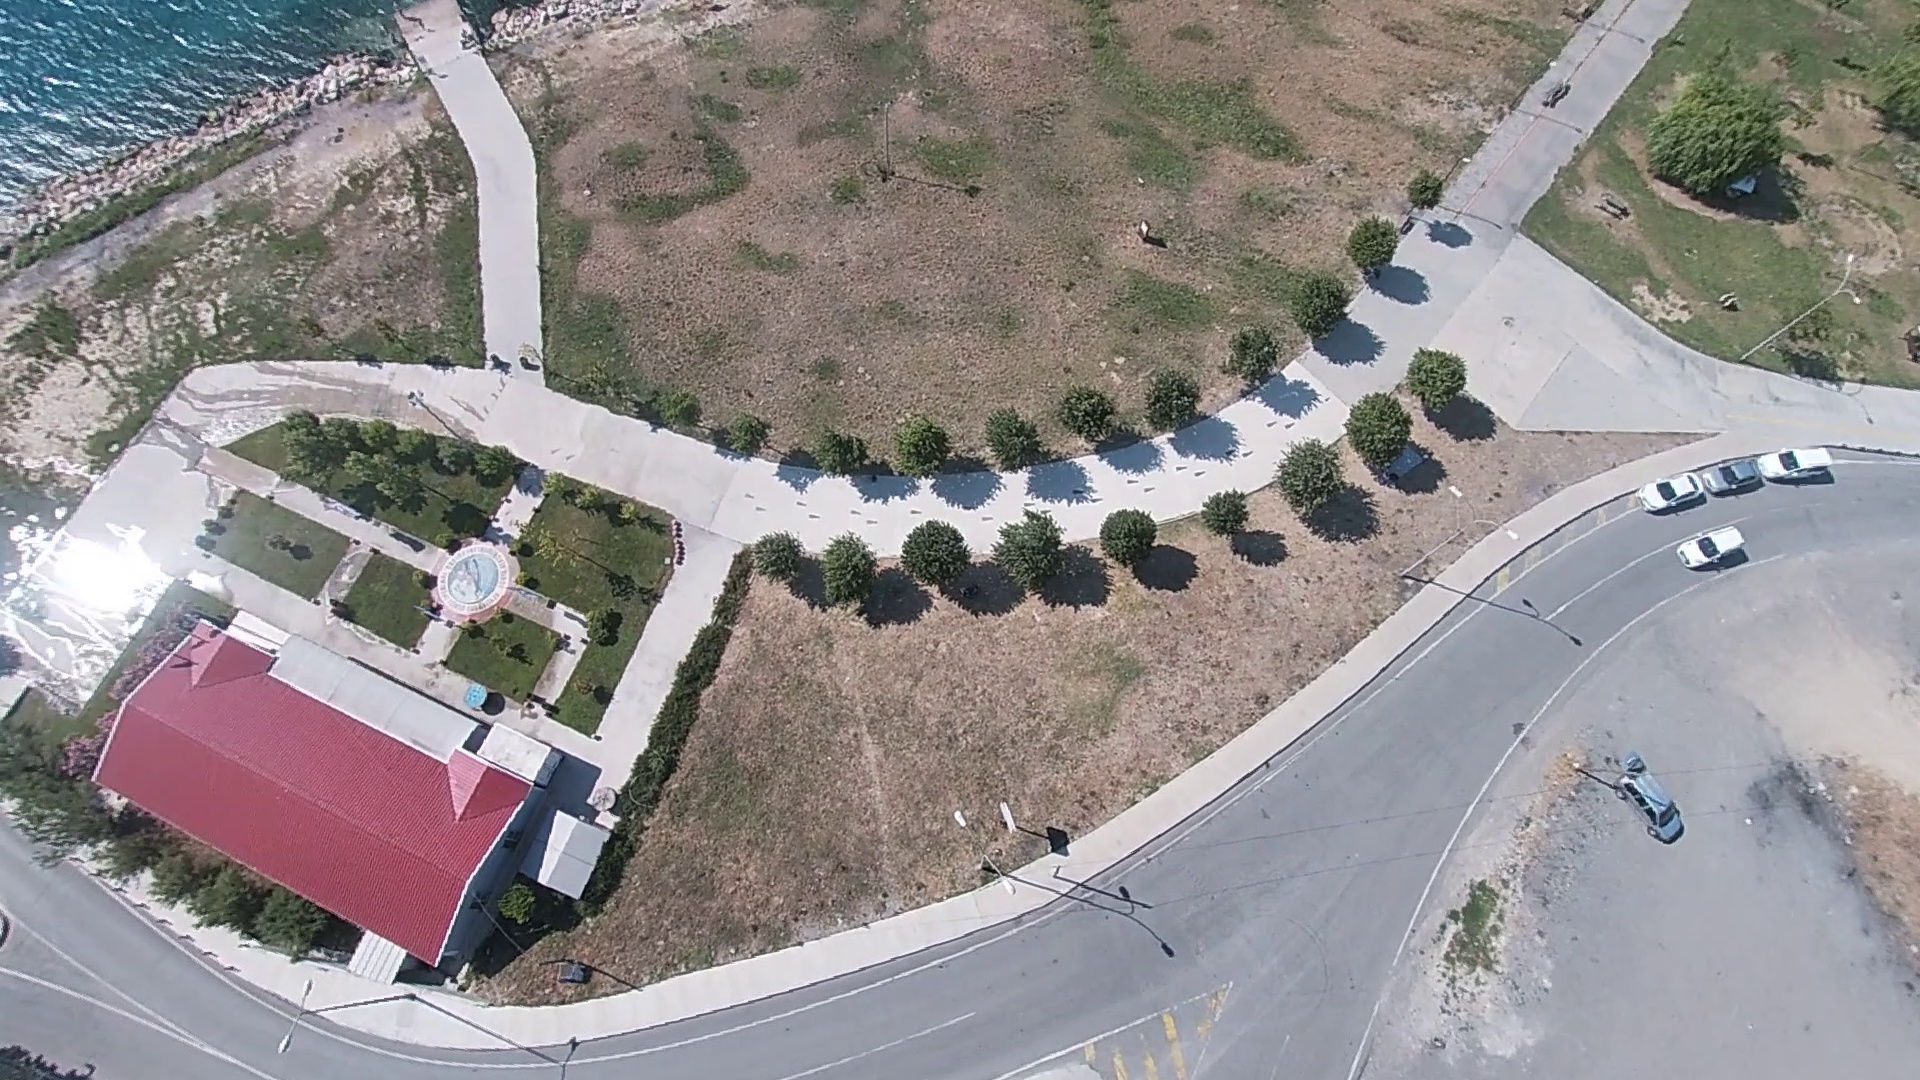araba: (1607, 756, 1695, 845), (1759, 436, 1844, 487), (1677, 521, 1755, 571), (1636, 472, 1704, 516), (1701, 454, 1766, 498)
